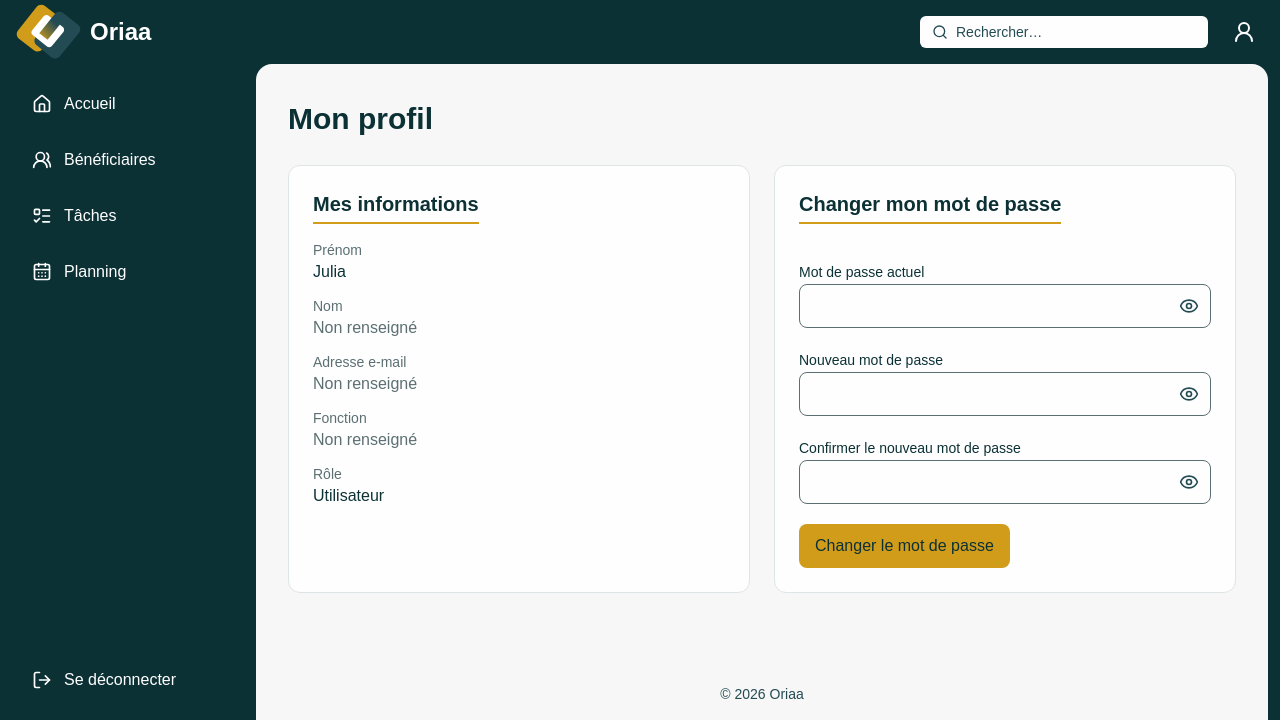
routes › déconnecte l'utilisateur et renvoie vers la connexion
The width and height of the screenshot is (1280, 720).
Expected: the heading "Mon profil" is shown, [288,102,433,135]
Click the button "Se déconnecter": coordinates (128, 680) [16,656,240,704]
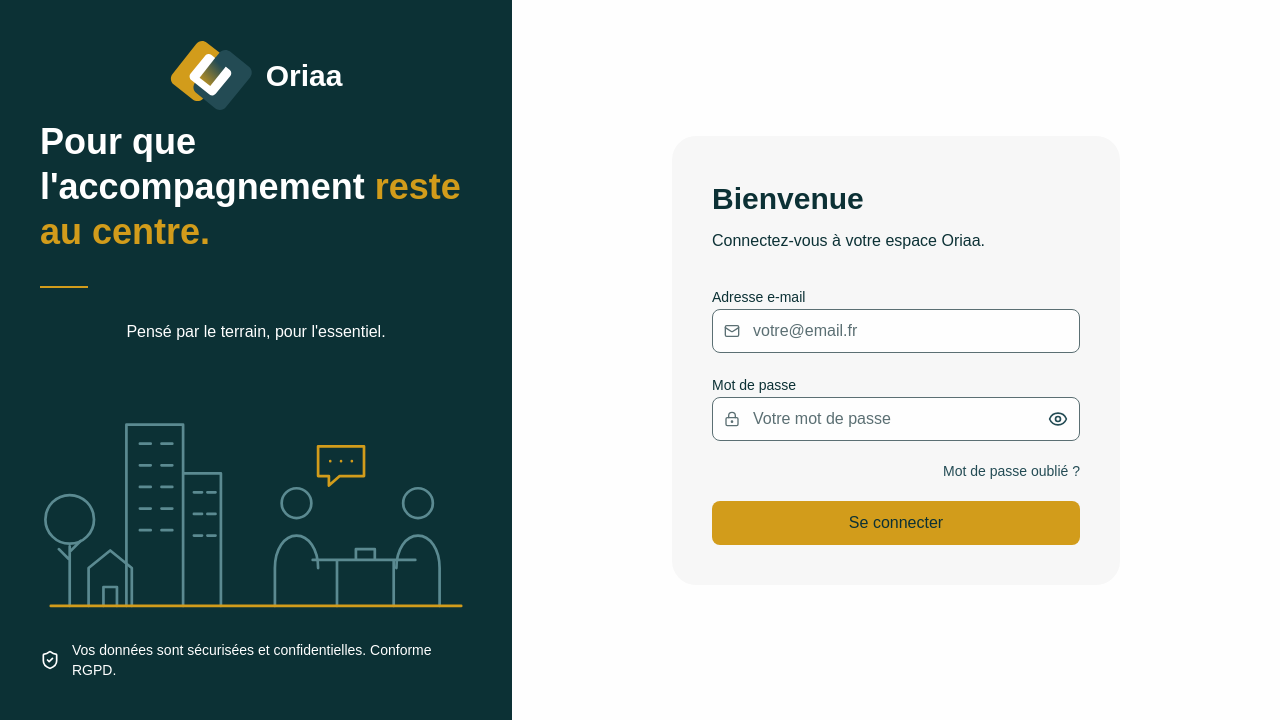
Result: the heading "Bienvenue" is shown at [712,182,864,214]
